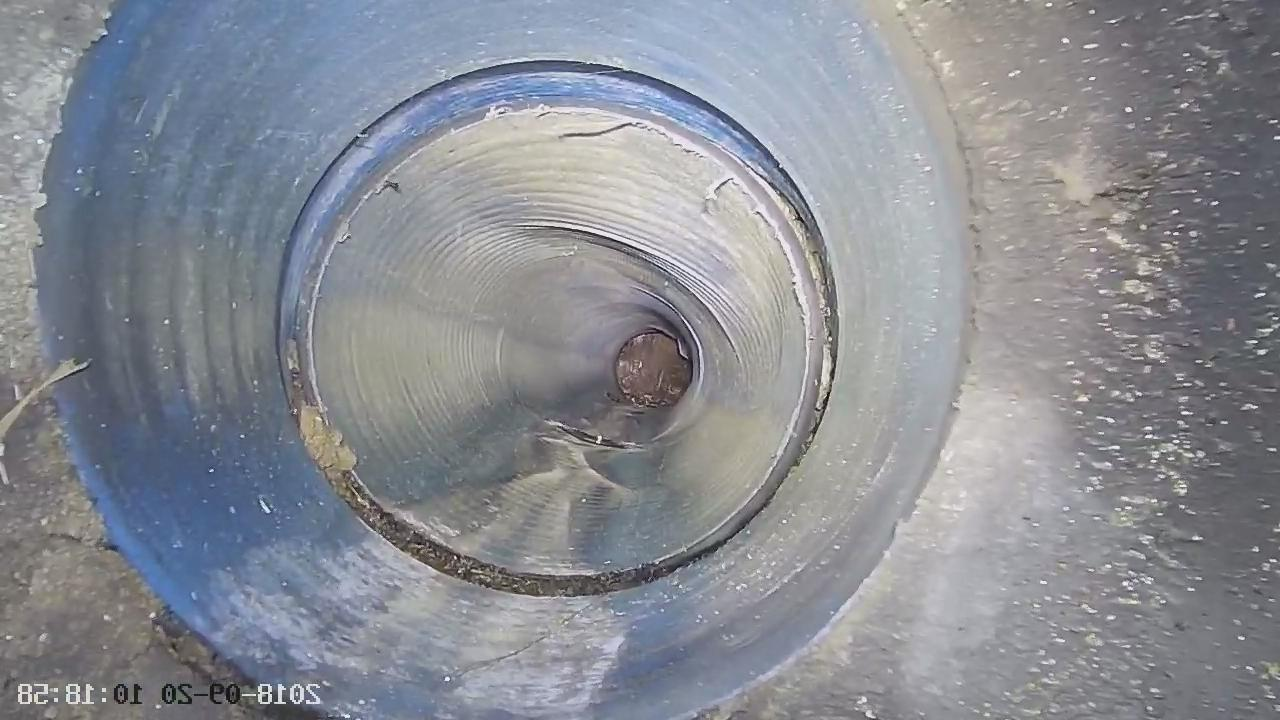BX: (447, 209, 737, 449)
CKTJ: (267, 53, 849, 602)
